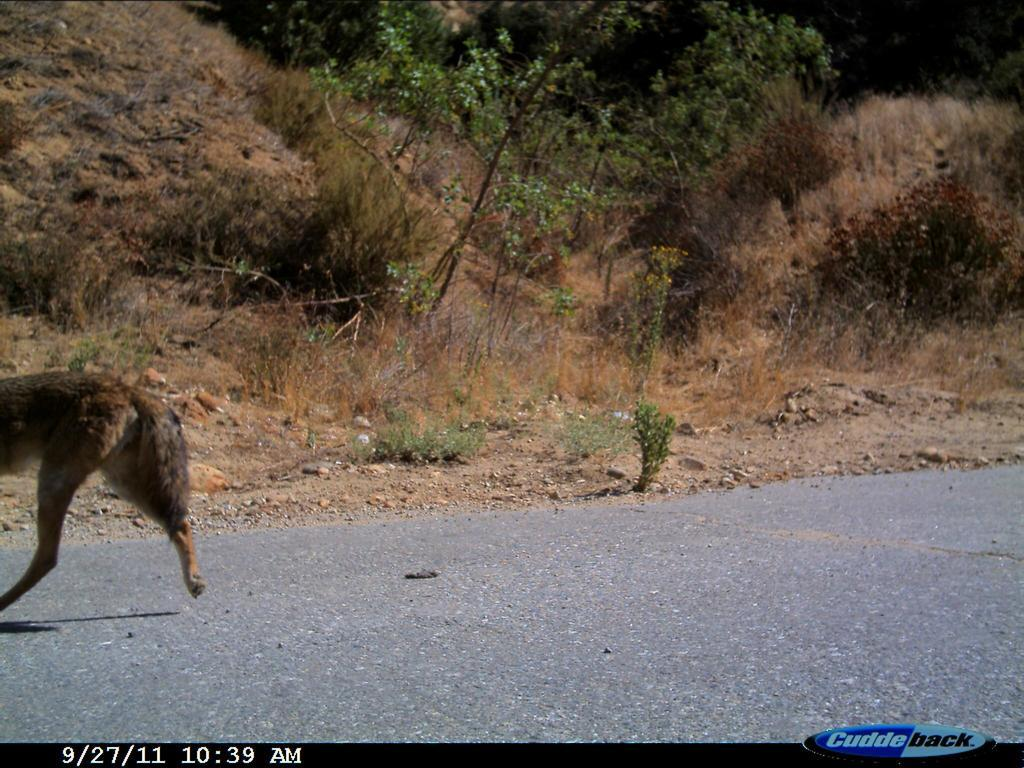coyote: (6, 356, 221, 632)
